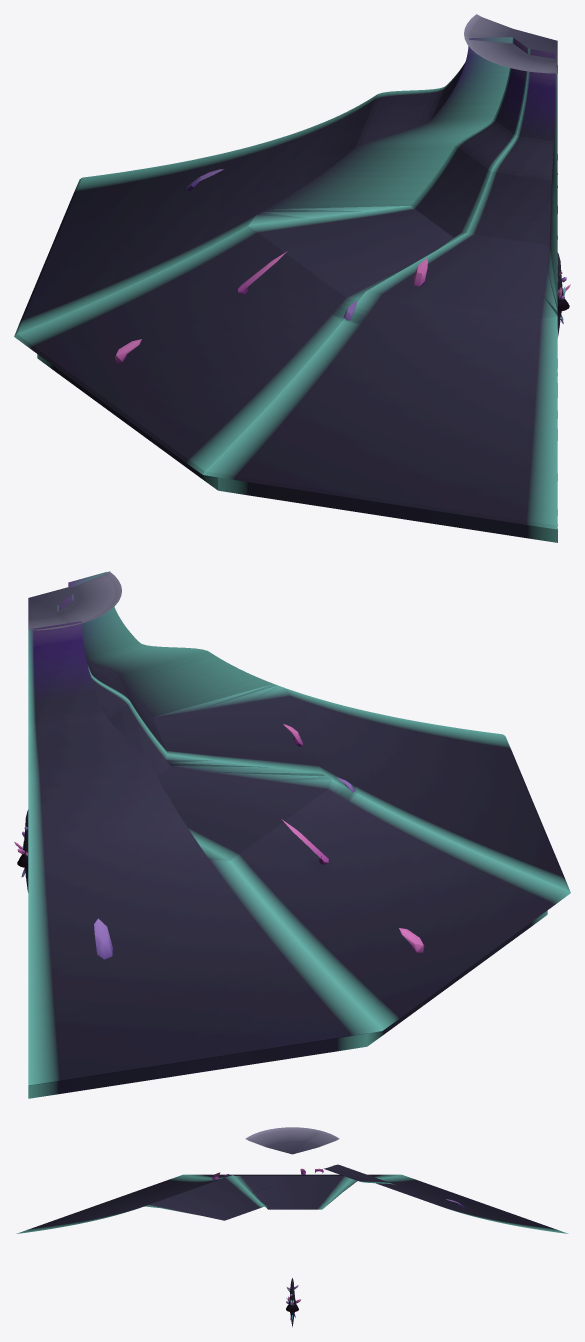
The model's file is caverns-s3-BeObHTBS.glb.
The picture shows the model from 3 angles, top to bottom: view 1: azimuth 30°, elevation 25°; view 2: azimuth 150°, elevation 25°; view 3: azimuth 270°, elevation 25°; orthographic projection. The views are drawn at different scales.
Visible parts, largest first — view 1: sc_landmark_1; view 2: sc_landmark_1; view 3: sc_landmark_1.
Part boxes in pixels (bbox=[...]): sc_landmark_1: bbox=[14, 14, 557, 542]; sc_landmark_1: bbox=[28, 571, 570, 1098]; sc_landmark_1: bbox=[16, 1127, 568, 1233].
Bounding box in the file's own units: 416 × 261 × 744.
